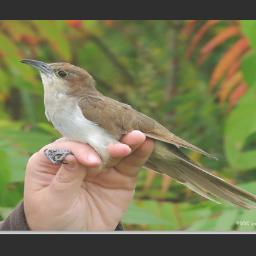Cuckoo: (18, 58, 256, 213)
